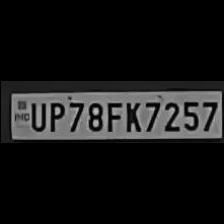2: (160, 98, 180, 132)
5: (179, 97, 199, 130)
7: (63, 98, 83, 132), (140, 98, 160, 132), (200, 98, 218, 132)
8: (84, 98, 104, 132)
F: (104, 98, 122, 132)
K: (121, 98, 141, 132)
P: (44, 98, 64, 132)
U: (26, 99, 46, 130)
